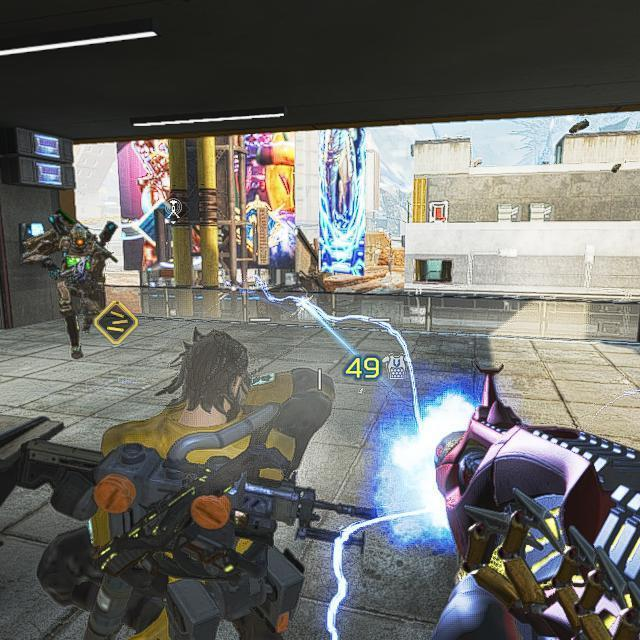avatar: (87, 328, 337, 640), (52, 219, 115, 361)
